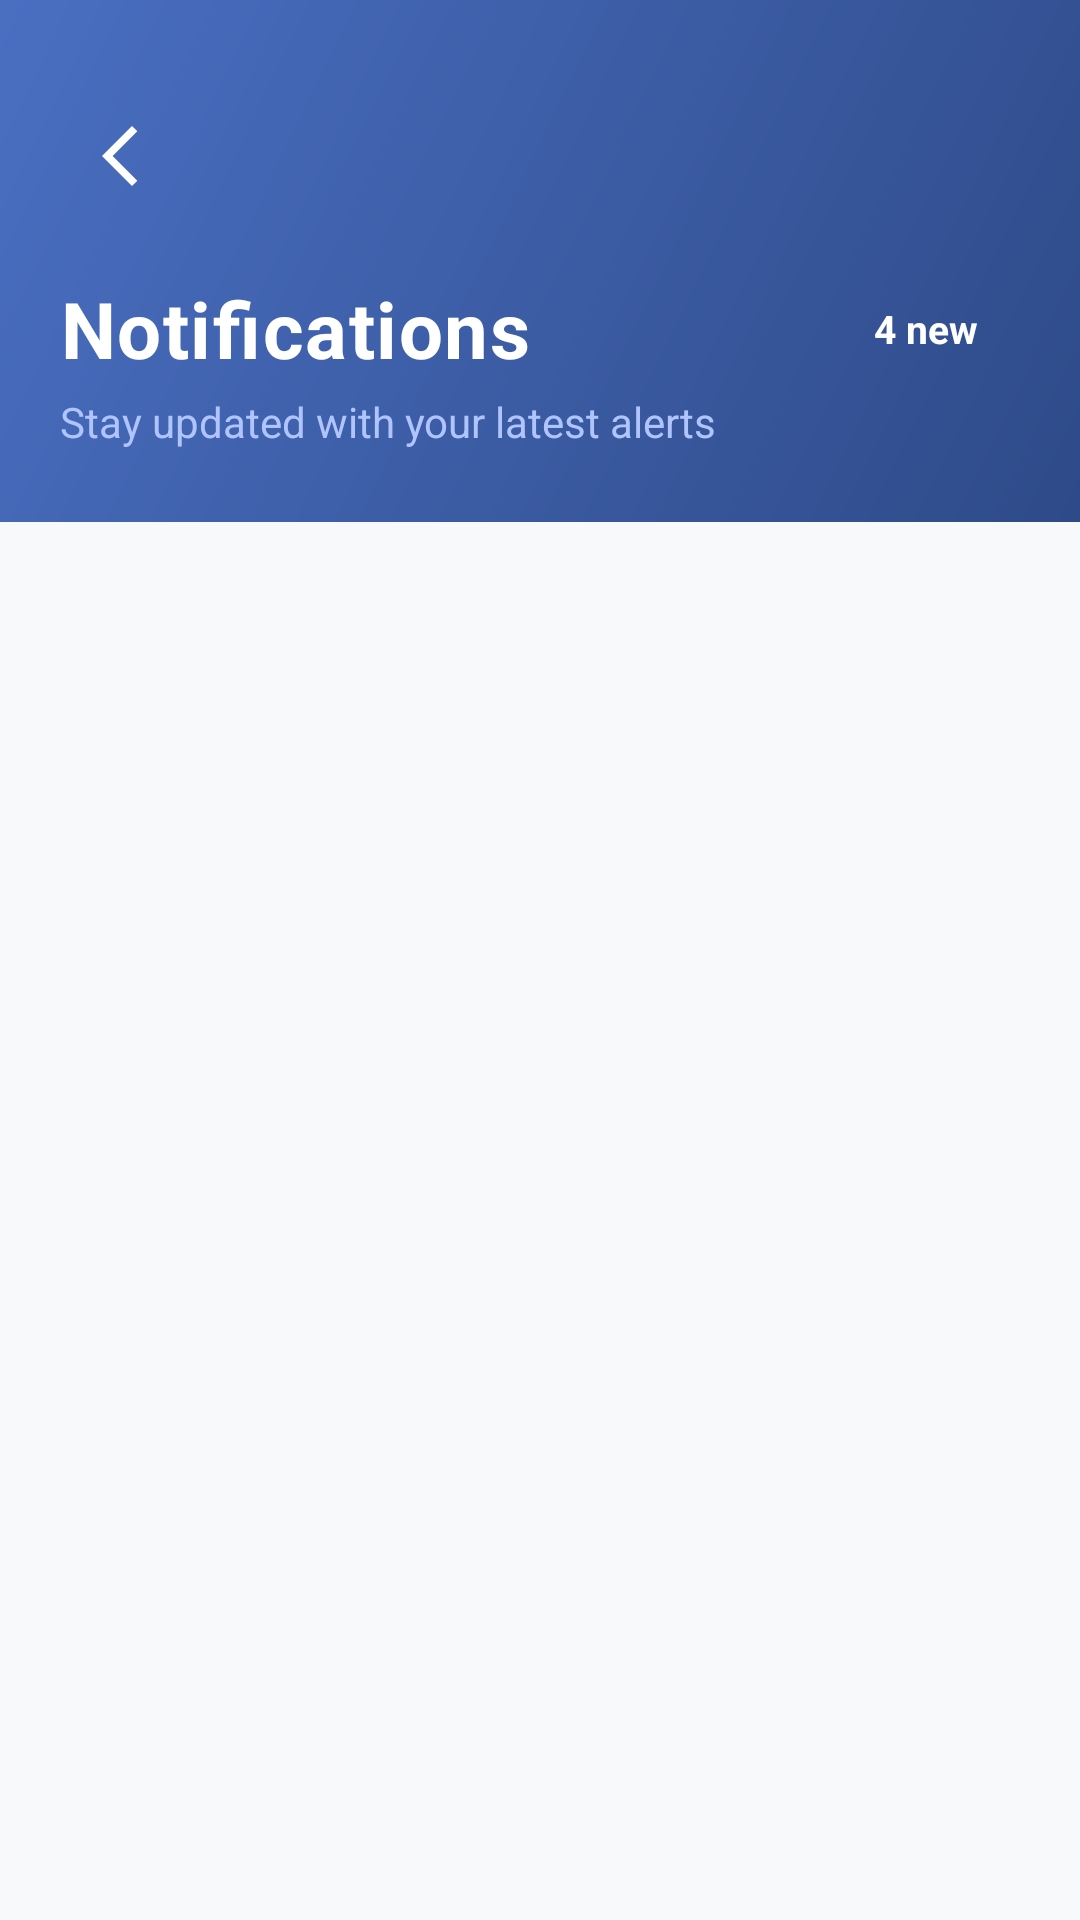

Screen size 1080x1920. Icon name, then its box in pixels as (x1, y1, x2, y2):
back arrow: (102, 126, 137, 186)
